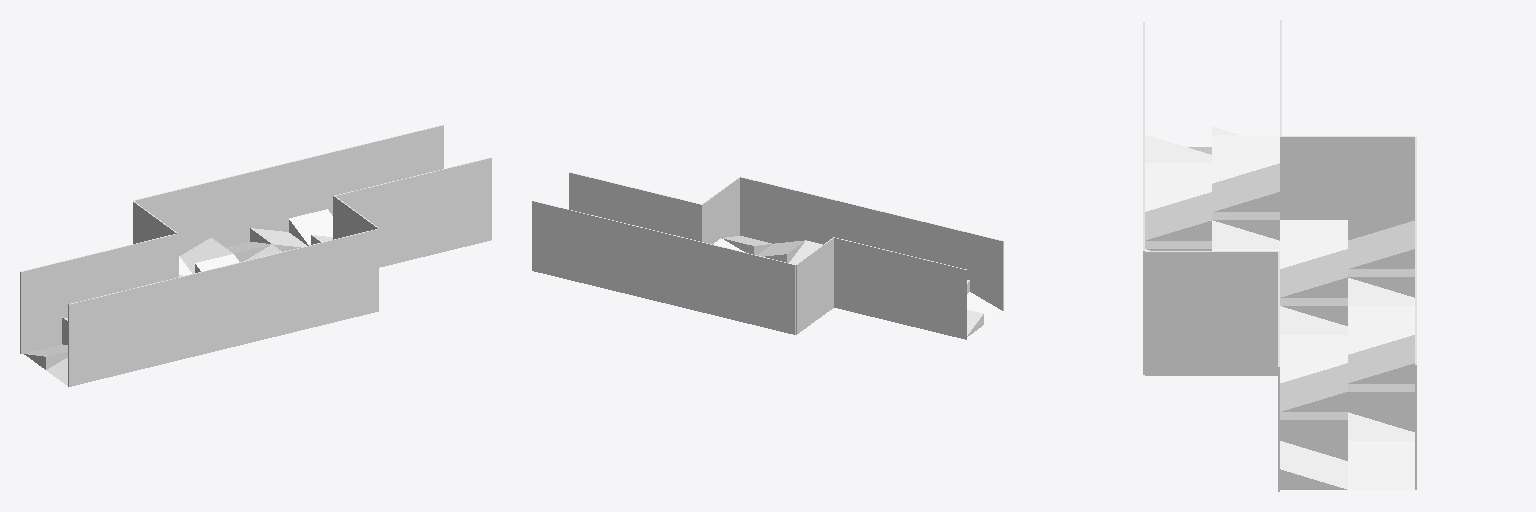
robot.urdf — terrain-ramps_4:
<?xml version="1.0" encoding="utf-8"?>
<!-- This URDF was automatically created by SolidWorks to URDF Exporter! Originally created by [author] ([email redacted]) 
     Commit Version: 1.6.0-4-g7f85cfe  Build Version: 1.6.7995.38578
     For more information, please see http://wiki.ros.org/sw_urdf_exporter -->
<robot
  name="terrain-ramps_4">
  <link
    name="base_link">
    <inertial>
      <origin
        xyz="3.5439 1.1993 0.19943"
        rpy="0 0 0" />
      <mass
        value="3465.8" />
      <inertia
        ixx="169.48"
        ixy="-2.6097E-14"
        ixz="1.2832E-13"
        iyy="201.66"
        iyz="-1.2"
        izz="225.32" />
    </inertial>
    <visual>
      <origin
        xyz="0 0 0"
        rpy="0 0 0" />
      <geometry>
        <mesh
          filename="package://terrain-ramps_4/meshes/base_link.STL" />
      </geometry>
      <material
        name="">
        <color
          rgba="1 1 1 1" />
      </material>
    </visual>
    <collision>
      <origin
        xyz="0 0 0"
        rpy="0 0 0" />
      <geometry>
        <mesh
          filename="package://terrain-ramps_4/meshes/base_link.STL" />
      </geometry>
    </collision>
  </link>
</robot>

--- Facts derived from the render (not from the file) ---
Views: 3 orthographic renders of the robot side by side, from view 1: azimuth 30°, elevation 25°; view 2: azimuth 150°, elevation 25°; view 3: azimuth 270°, elevation 25°.
Robot: terrain-ramps_4 — 1 links, 0 joints (none); root link base_link; default pose: every joint at zero.
Visible links, largest first — view 1: base_link; view 2: base_link; view 3: base_link.
Link boxes in pixels (left/top/right/bottom): base_link: left=20, top=125, right=491, bottom=386; base_link: left=532, top=172, right=1003, bottom=339; base_link: left=1143, top=20, right=1416, bottom=491.
Size in the robot's own frame: 7.28 by 2.44 by 1.22 metres.
1 mesh visuals loaded from 1 distinct referenced files (1 binary STL).